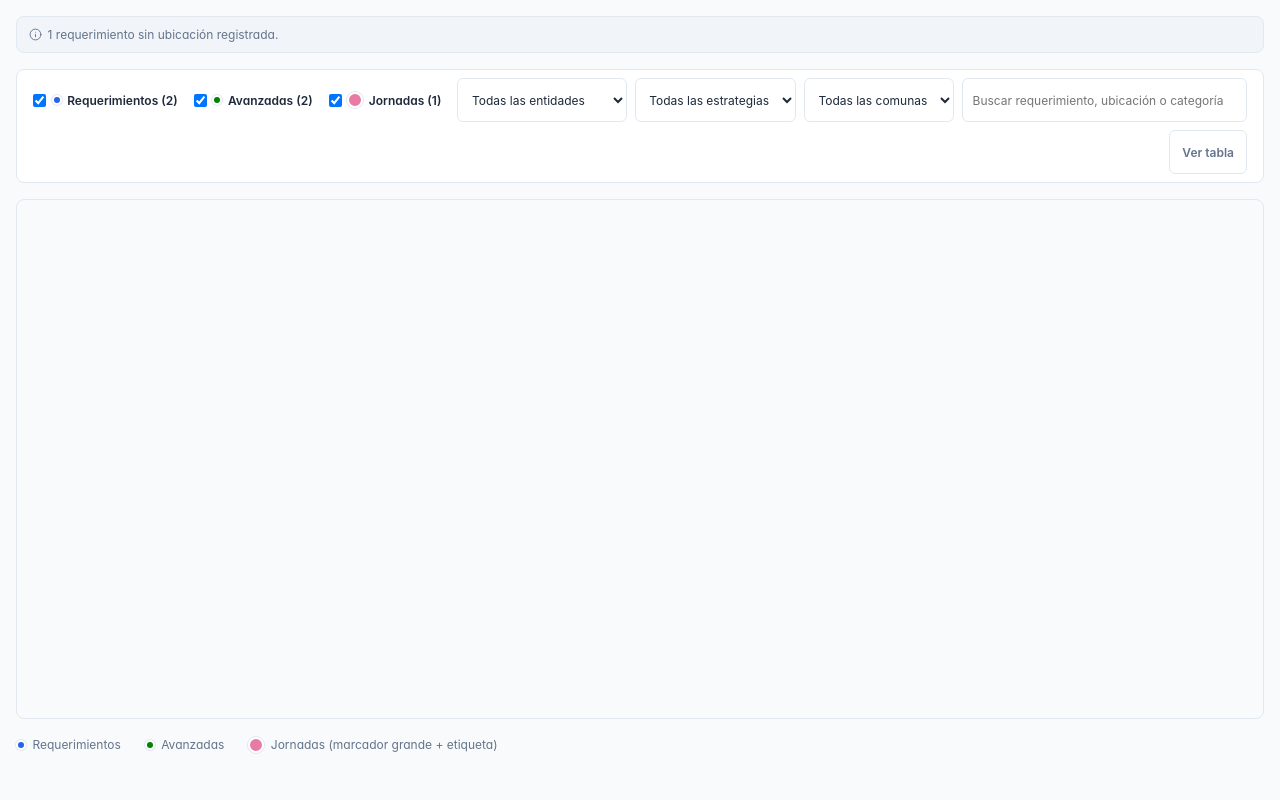
Test: MapaGeneral › the table twin lists filtered points with layer, name, entidad, comuna, fecha, lat and lng
The width and height of the screenshot is (1280, 800).
Click the button "Ver tabla": (1208, 152) [1169, 130, 1247, 174]
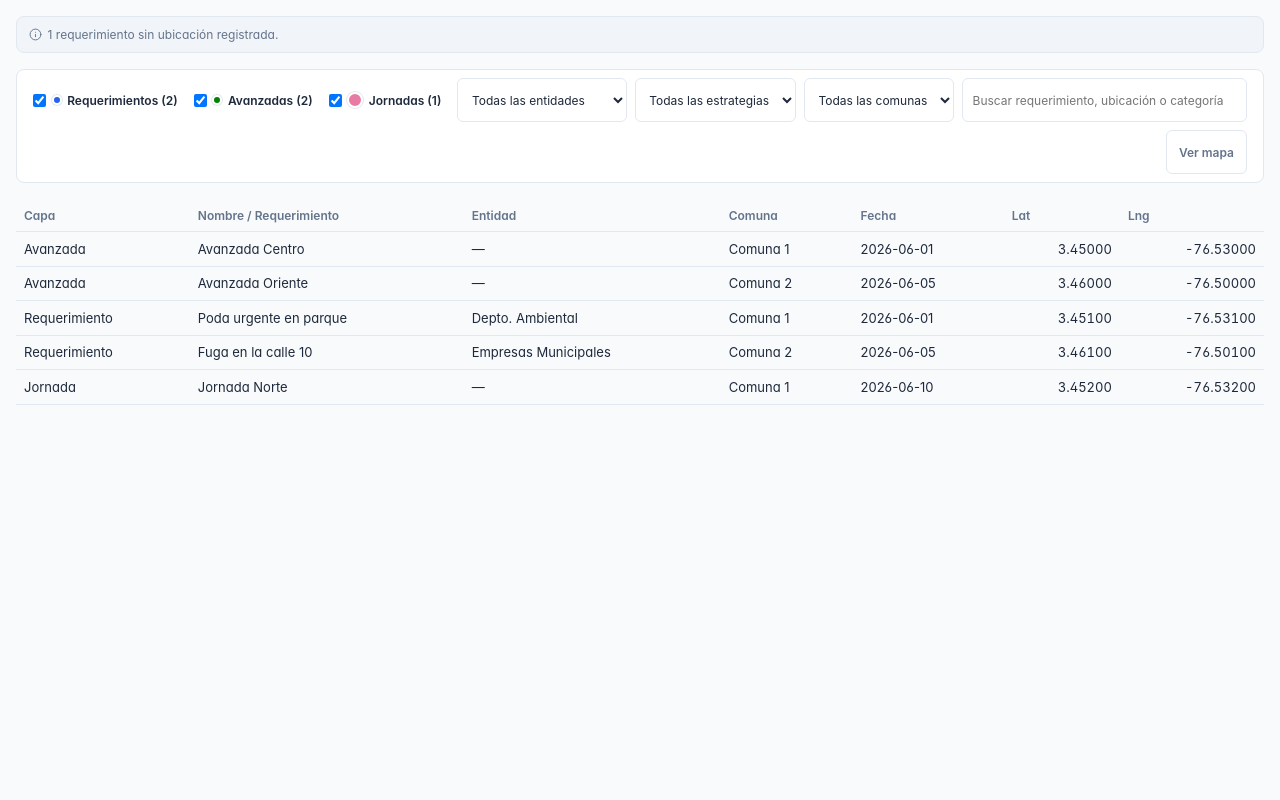
Expected: the text "Poda urgente en parque" is shown, [190, 301, 464, 335]
Expected: the text "Depto. Ambiental" is shown, [464, 301, 721, 335]
Expected: the text "Avanzada Centro" is shown, [190, 232, 464, 266]
